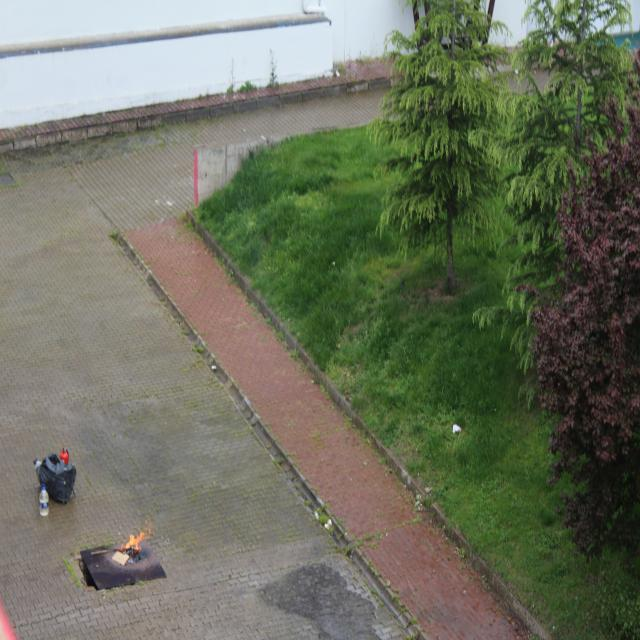fire: (119, 515, 156, 558)
